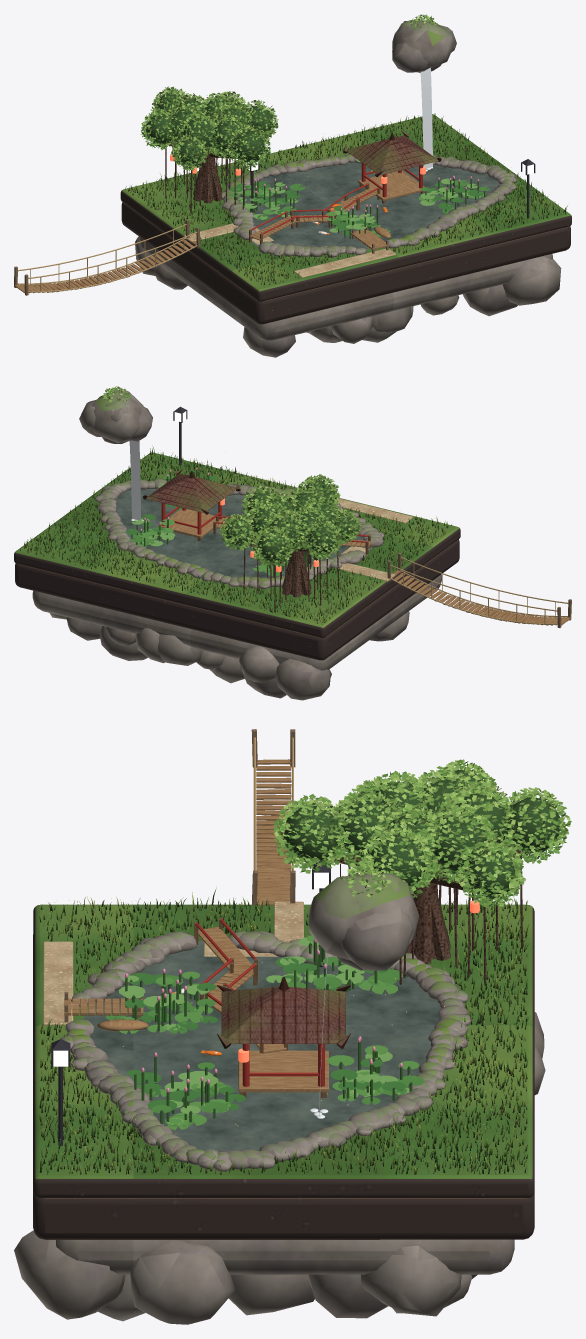
The model's file is unlock-lotus-xuan.glb.
3 views of the same model, one above another, from view 1: azimuth 30°, elevation 25°; view 2: azimuth 150°, elevation 25°; view 3: azimuth 270°, elevation 25° (orthographic). The views are drawn at different scales.
Visible parts, largest first — view 1: unlock-lotus-static, pond-bed, sway.005-mesh, grass-right, fall-float; view 2: unlock-lotus-static, grass-right, sway.005-mesh, pond-bed, fall-float; view 3: unlock-lotus-static, sway.005-mesh, pond-bed, grass-right.
Part boxes in pixels (bbox=[...]): unlock-lotus-static: bbox=[14, 14, 571, 357]; pond-bed: bbox=[239, 162, 500, 249]; sway.005-mesh: bbox=[140, 86, 278, 171]; grass-right: bbox=[125, 113, 567, 284]; fall-float: bbox=[420, 67, 432, 168]; unlock-lotus-static: bbox=[14, 386, 571, 700]; grass-right: bbox=[20, 446, 451, 624]; sway.005-mesh: bbox=[219, 474, 361, 567]; pond-bed: bbox=[116, 488, 372, 578]; fall-float: bbox=[129, 440, 141, 520]; unlock-lotus-static: bbox=[14, 729, 545, 1324]; sway.005-mesh: bbox=[273, 759, 571, 908]; pond-bed: bbox=[83, 940, 440, 1151]; grass-right: bbox=[38, 888, 530, 1174].
Size of the model in its own units: 10.27 by 5.08 by 5.56.
54 materials, 23 textured.
